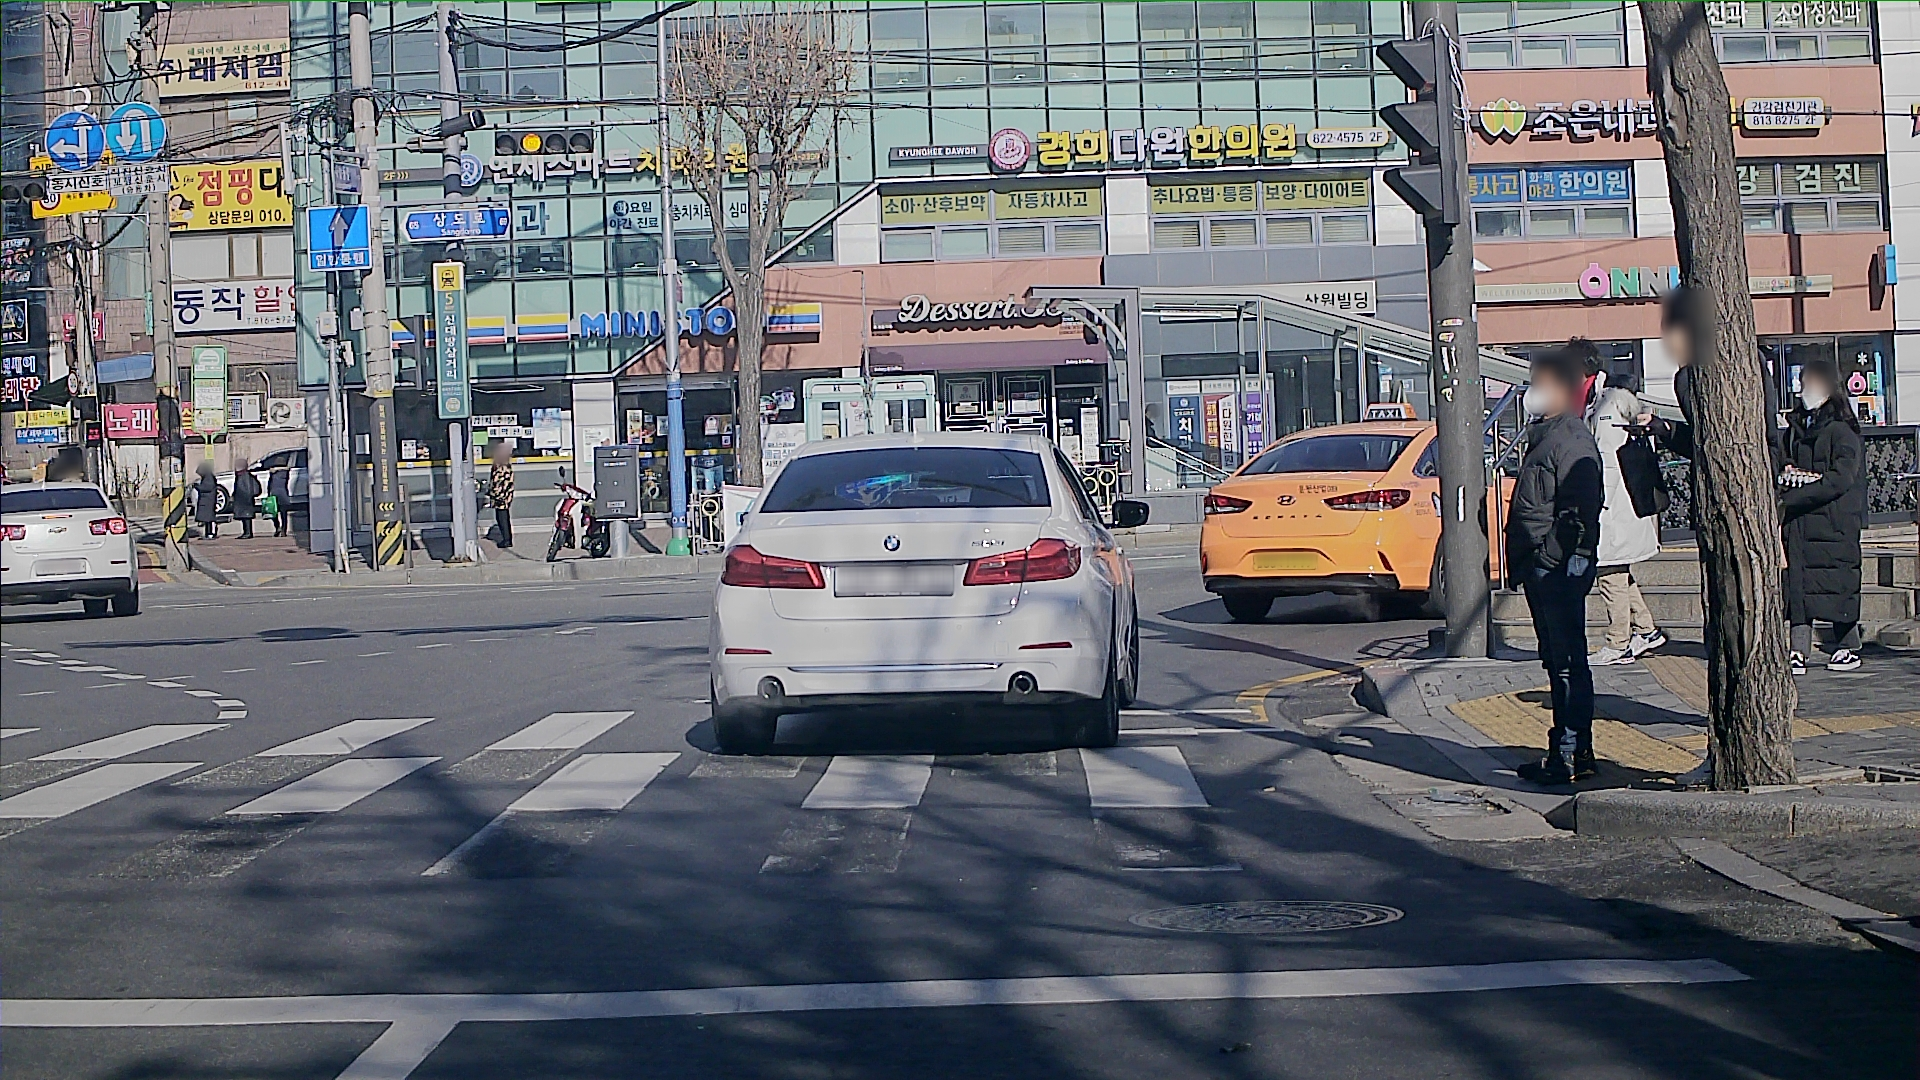trafficLight: (492, 127, 593, 160)
trafficSignCircle: (38, 105, 105, 171), (113, 102, 166, 167)
